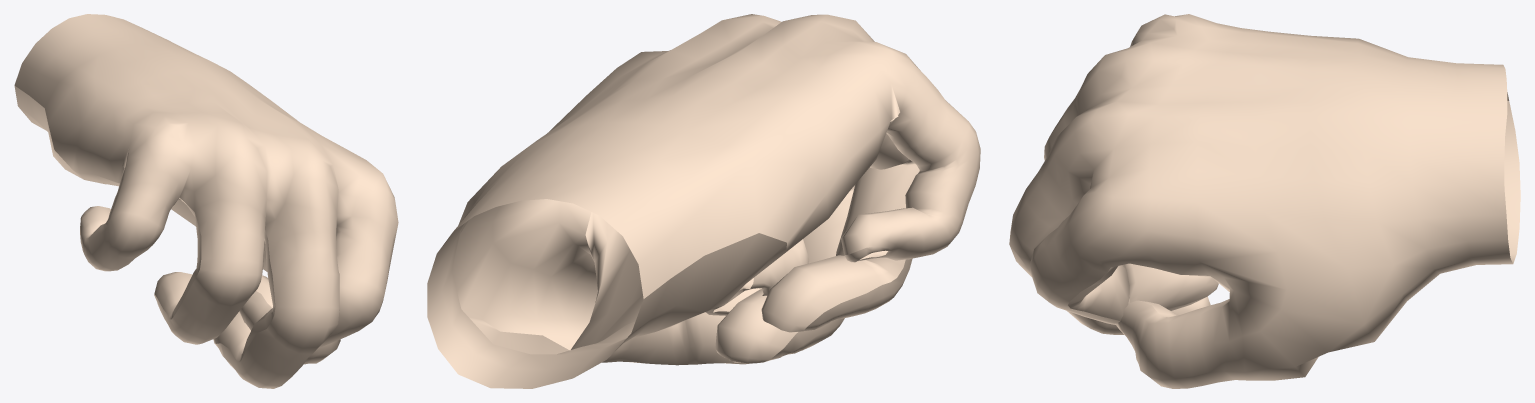
The model's file is mano_r_cerrada.glb.
3 renders of one model, left to right at view 1: azimuth 30°, elevation 25°; view 2: azimuth 150°, elevation 25°; view 3: azimuth 270°, elevation 25°, orthographic. The views are drawn at different scales.
Parts seen in each view (by area): view 1: mano_r_cerrada; view 2: mano_r_cerrada; view 3: mano_r_cerrada.
Boxes of the visible parts, box(x1,y1,x2,y2) form: mano_r_cerrada: box(14, 14, 398, 388); mano_r_cerrada: box(427, 14, 980, 388); mano_r_cerrada: box(1009, 14, 1520, 388).
Size of the model in its own units: 0.0954 by 0.0828 by 0.1321.
